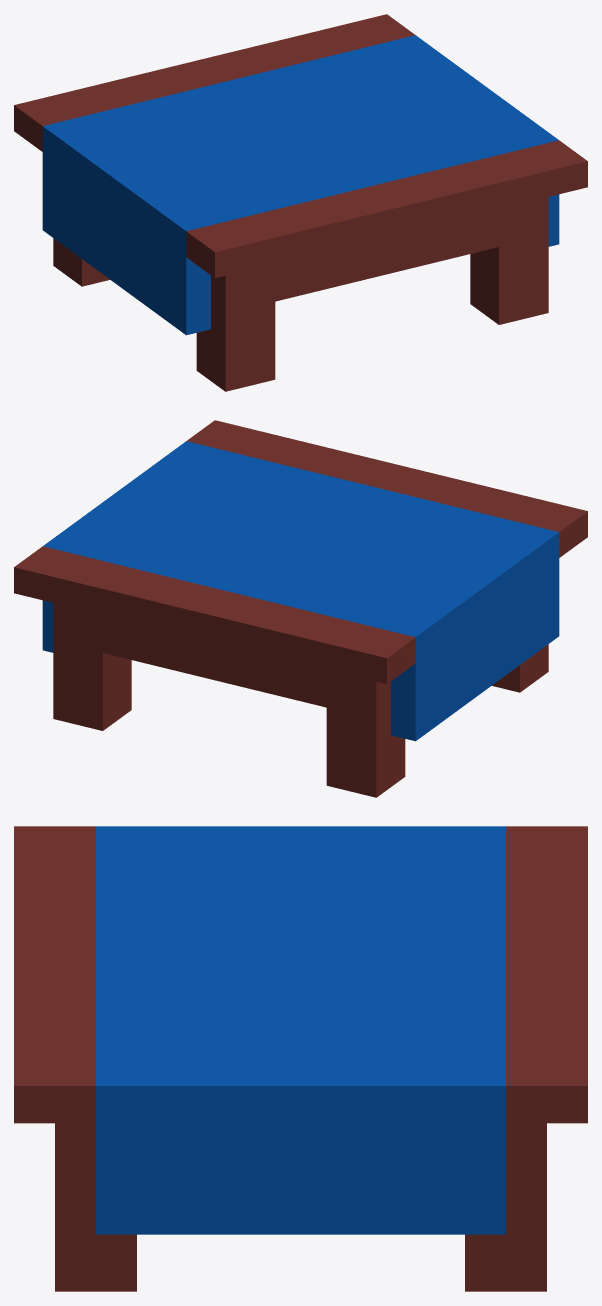
File: small_table_b_blue.obj
3 renders of one model, top to bottom at view 1: azimuth 30°, elevation 25°; view 2: azimuth 150°, elevation 25°; view 3: azimuth 270°, elevation 25°, orthographic. The views are drawn at different scales.
Size of the model in its own units: 1.5 by 0.6 by 1.4.
1 material, 1 textured.
